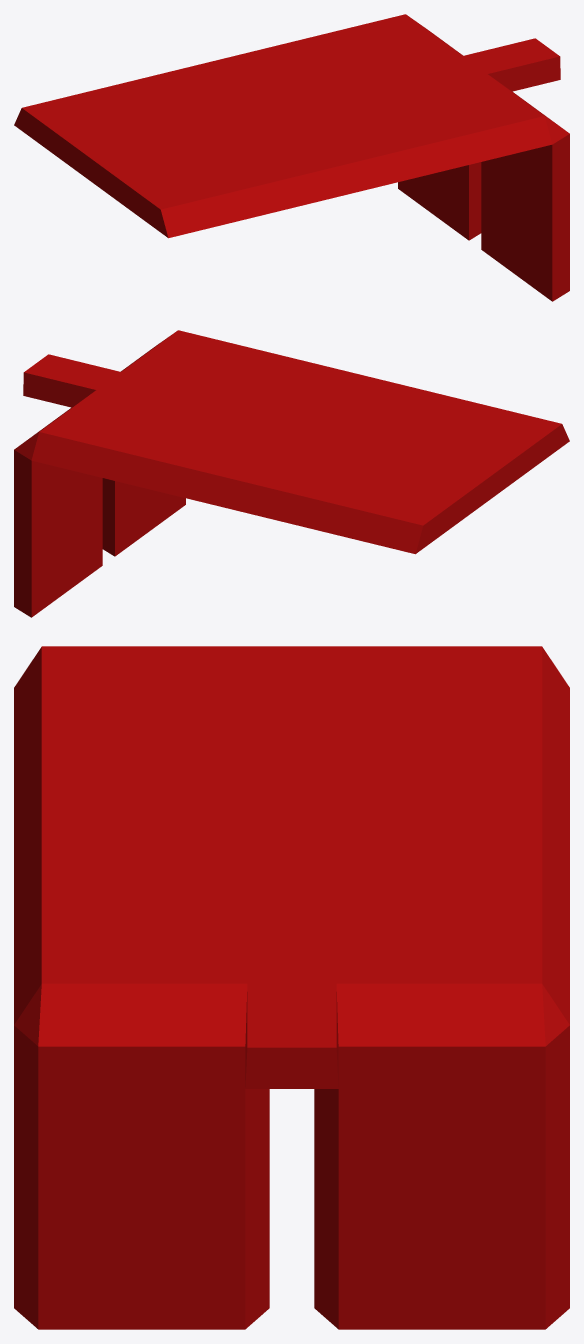
Rendered from Richtschnur_klammer.fbx.
3 views of the same model, one above another, from view 1: azimuth 30°, elevation 25°; view 2: azimuth 150°, elevation 25°; view 3: azimuth 270°, elevation 25° (orthographic). The views are drawn at different scales.
Visible parts, largest first — view 1: Richtschnur spanner; view 2: Richtschnur spanner; view 3: Richtschnur spanner.
Boxes of the visible parts, x1,y1,x2,y2 form: Richtschnur spanner: (14,14,569,301); Richtschnur spanner: (14,330,569,617); Richtschnur spanner: (14,646,569,1329).
Bounding box in the file's own units: 27.08 × 10.22 × 15.87.
